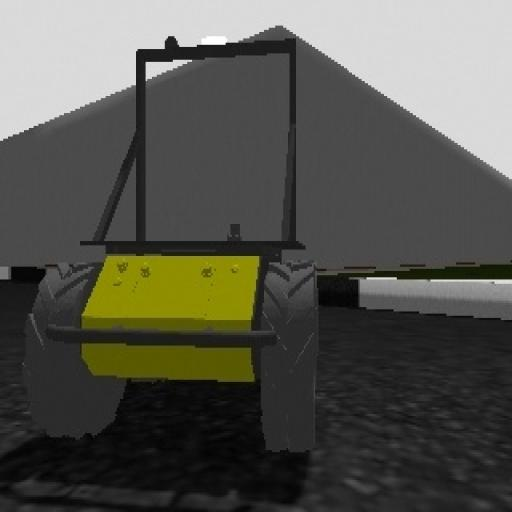huskya200: (22, 10, 331, 482)
